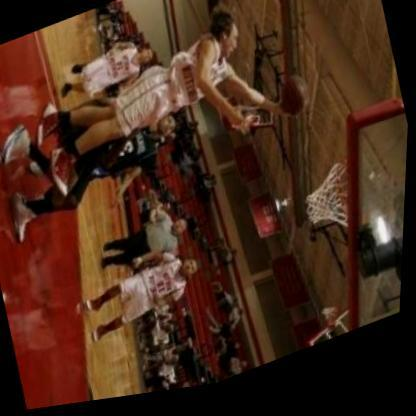basketball: (271, 78, 318, 127)
